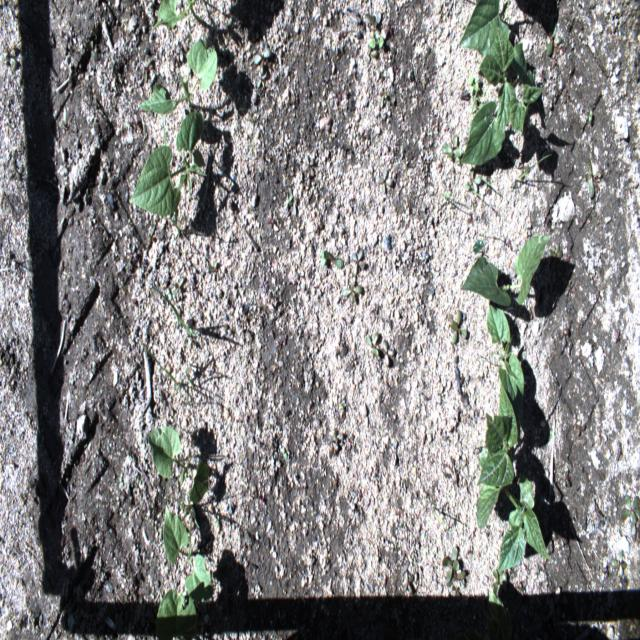crop: (476, 379, 552, 571), (460, 19, 546, 164), (129, 112, 207, 215), (461, 235, 553, 307), (139, 38, 217, 114), (163, 504, 214, 604), (148, 426, 209, 501), (486, 300, 524, 419), (458, 0, 509, 57), (149, 0, 203, 40), (156, 588, 196, 639), (487, 591, 513, 639)
weed: (142, 344, 193, 405), (150, 282, 199, 344), (172, 495, 200, 569), (512, 153, 552, 188), (442, 547, 466, 598), (238, 108, 258, 153), (620, 496, 640, 534), (469, 76, 488, 114), (442, 134, 462, 166), (450, 310, 468, 344), (472, 190, 497, 213), (253, 41, 270, 74), (584, 161, 598, 198), (546, 25, 563, 55), (320, 248, 344, 269), (343, 278, 362, 303), (492, 565, 507, 596), (377, 340, 394, 366), (479, 177, 502, 196), (610, 549, 626, 576), (465, 166, 481, 193), (0, 44, 17, 69), (364, 11, 381, 36), (376, 168, 392, 194), (169, 212, 184, 239), (366, 331, 380, 356), (352, 250, 365, 276), (369, 28, 384, 48), (172, 276, 184, 300), (366, 42, 378, 66), (286, 187, 296, 215), (548, 243, 564, 260), (474, 232, 486, 254), (403, 569, 413, 595), (9, 162, 24, 179), (329, 428, 343, 444), (304, 155, 314, 176), (558, 471, 570, 488), (558, 329, 569, 347), (257, 71, 267, 89), (380, 86, 387, 108), (163, 287, 171, 301), (90, 40, 95, 61), (282, 444, 287, 461), (549, 427, 554, 441), (589, 109, 593, 122), (215, 518, 219, 530)
